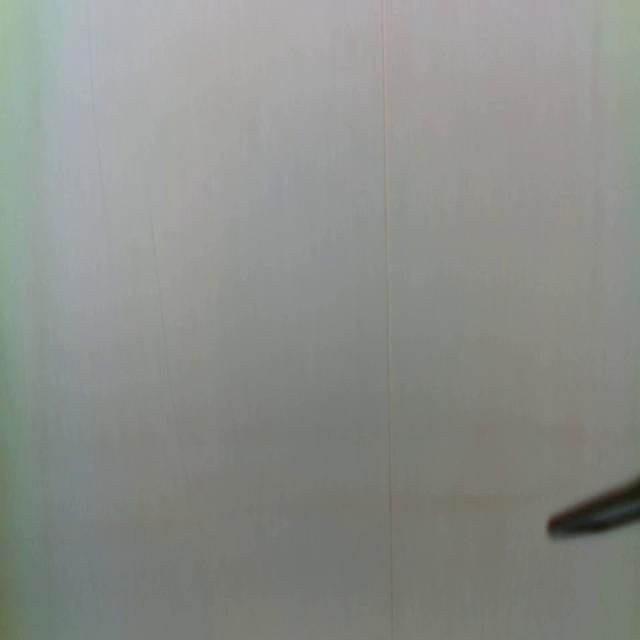crease: (149, 207, 204, 534), (378, 0, 396, 639), (86, 21, 116, 274)
